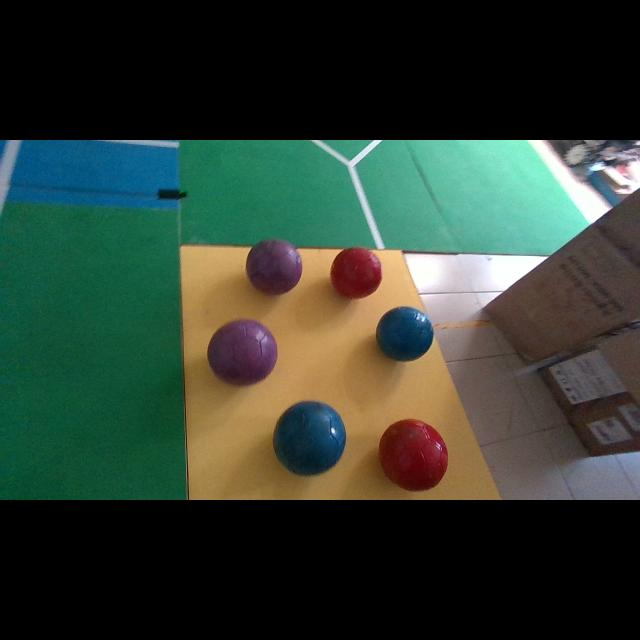B: (272, 401, 346, 476), (376, 306, 434, 361)
P: (208, 320, 278, 385), (246, 240, 302, 295)
R: (379, 420, 448, 491), (330, 248, 382, 299)
